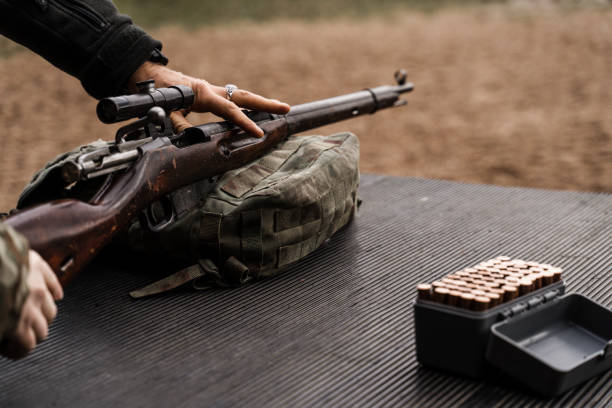gun: (0, 71, 418, 294)
